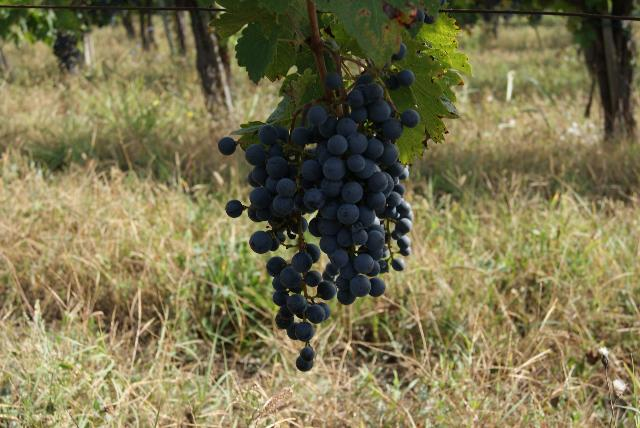grapes: (226, 124, 330, 370), (310, 74, 420, 304), (226, 124, 322, 254), (266, 244, 338, 371)
